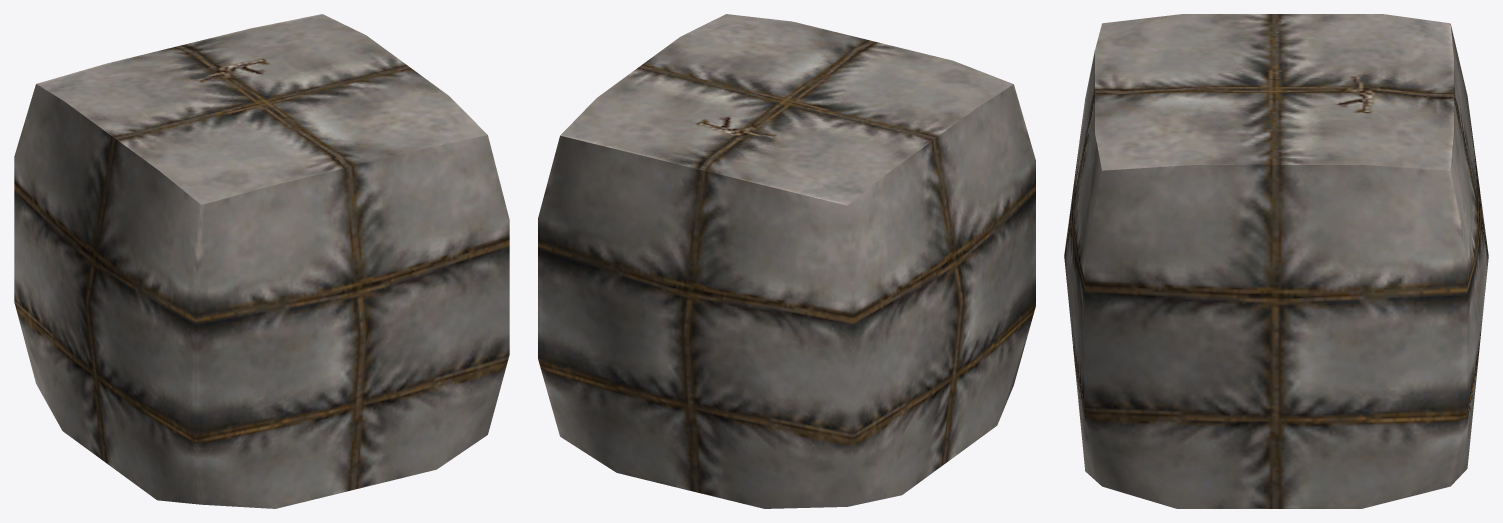
File: loc2_37.glb
3 views of the same model, side by side, from view 1: azimuth 30°, elevation 25°; view 2: azimuth 150°, elevation 25°; view 3: azimuth 270°, elevation 25° (orthographic). The views are drawn at different scales.
Parts seen in each view (by area): view 1: loc2_37; view 2: loc2_37; view 3: loc2_37.
Part boxes in pixels (left/top/right/bottom): loc2_37: left=14, top=14, right=509, bottom=508; loc2_37: left=538, top=14, right=1035, bottom=508; loc2_37: left=1064, top=14, right=1488, bottom=508.
Bounding box in the file's own units: 1.47 × 1.29 × 1.47.
Materials: 1 (1 with a texture image).
